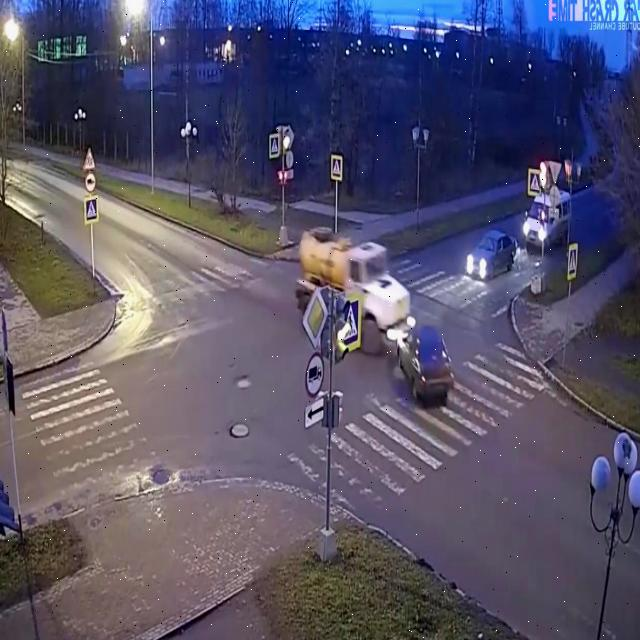accident: (293, 217, 464, 419)
